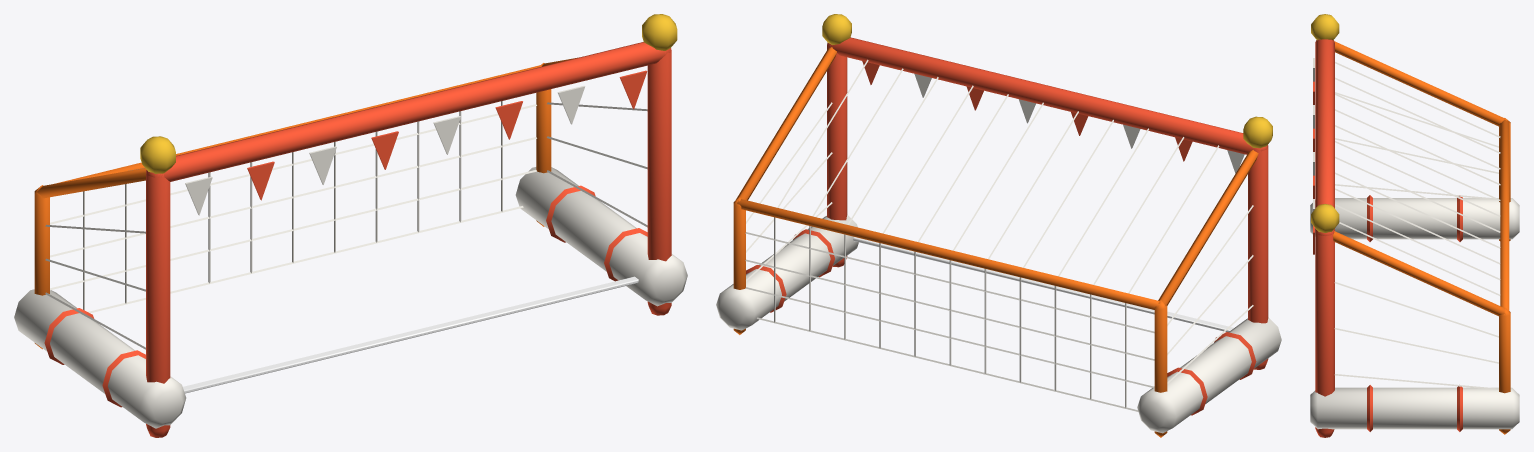
Rendered from Goal_A.fbx.
3 views of the same model, side by side, from view 1: azimuth 30°, elevation 25°; view 2: azimuth 150°, elevation 25°; view 3: azimuth 270°, elevation 25° (orthographic). The views are drawn at different scales.
Parts seen in each view (by area): view 1: Goal_A; view 2: Goal_A; view 3: Goal_A.
Part boxes in pixels (left/top/right/bottom): Goal_A: left=14, top=14, right=687, bottom=437; Goal_A: left=716, top=14, right=1281, bottom=437; Goal_A: left=1310, top=14, right=1519, bottom=437.
Bounding box in the file's own units: 6.64 × 3.43 × 2.8.
